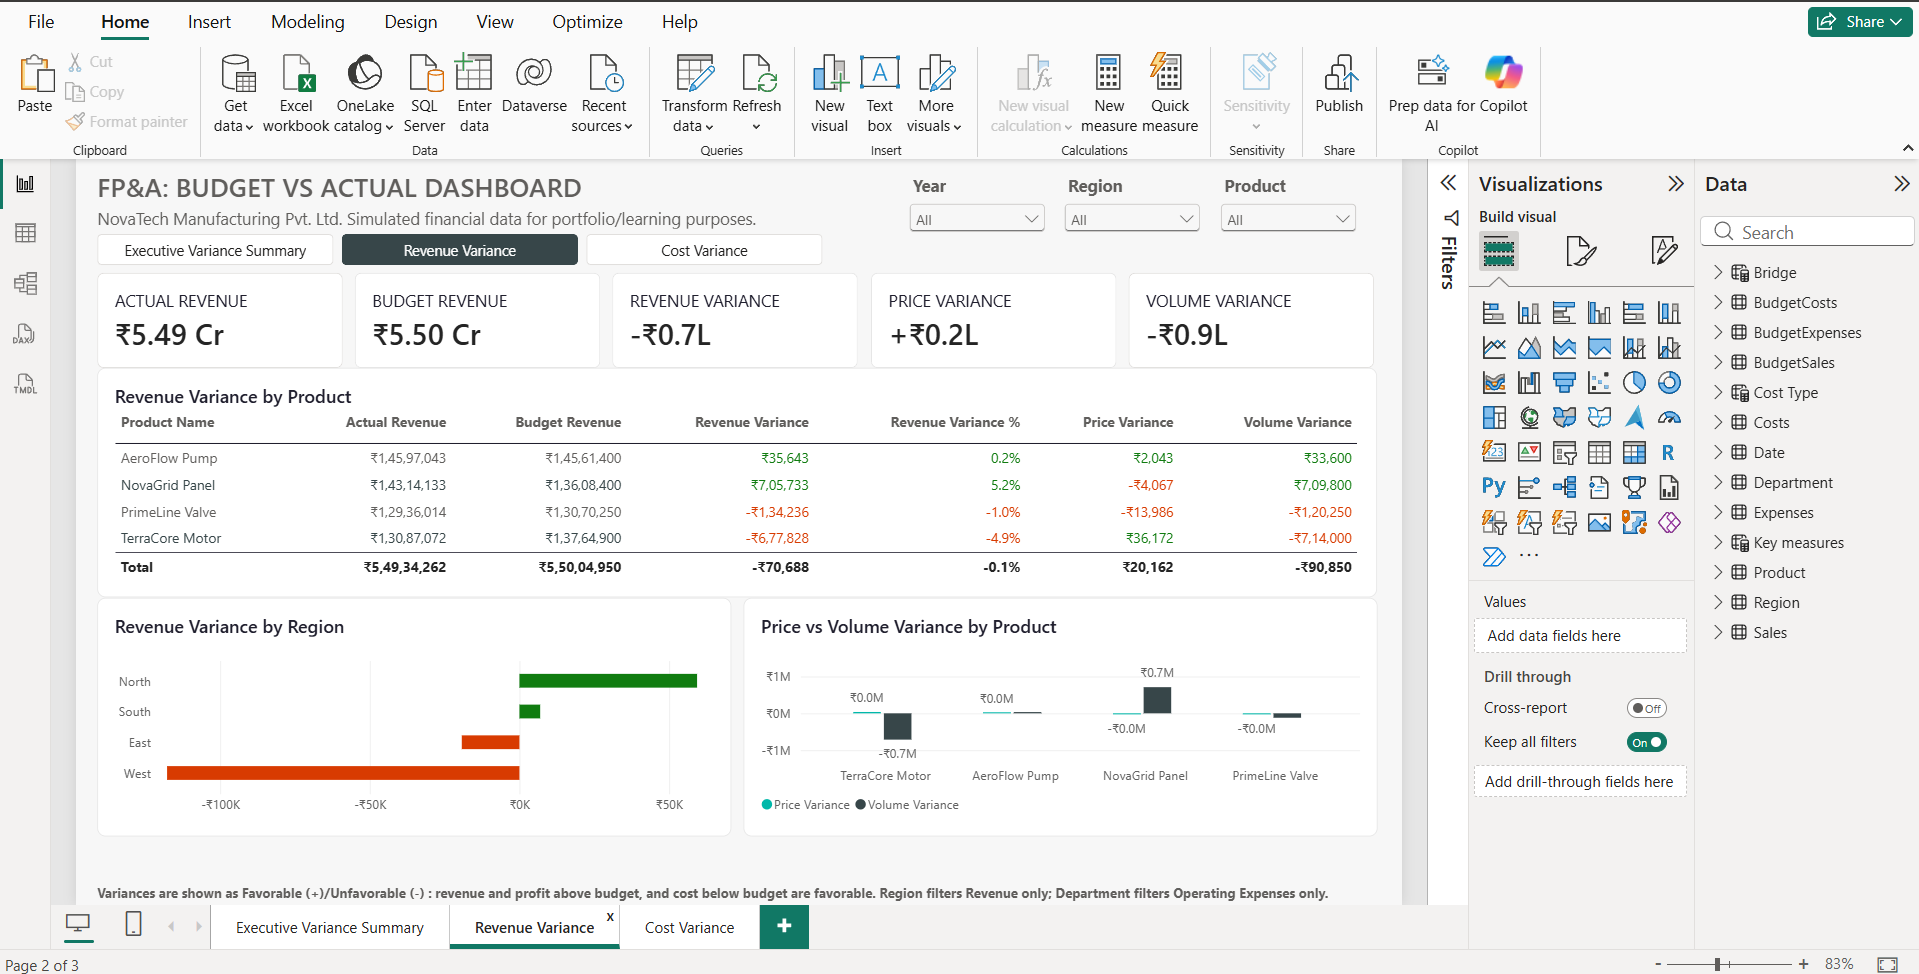

What the dashboard file says about the page in this screenshot:
{"tool":"powerbi","page":{"name":"Revenue Variance","canvas":[1280,720],"ordinal":1},"visuals":[{"type":"textbox","title":"FP&A: BUDGET VS ACTUAL DASHBOARD","box":[20,10,760,60],"z":0},{"type":"slicer","fields":{"Values":["Date.Year"]},"box":[800,14,140,58],"z":1},{"type":"slicer","fields":{"Values":["Sales.Region"]},"box":[950,14,140,58],"z":2},{"type":"slicer","fields":{"Values":["Product.Product Name"]},"box":[1100,14,140,58],"z":3},{"type":"pageNavigator","box":[20,72,700,30],"z":4},{"type":"textbox","title":"Variances are shown as Favorable (+)/Unfavorable (-) : revenue and profit above budget, and cost below budget are favorable. Region filters Revenue only; Department filters Operating Expenses only.","box":[20,700,1236,18],"z":5},{"type":"cardVisual","fields":{"Data":["Key measures.Actual Revenue Label"]},"box":[20,110,237,92],"z":6},{"type":"cardVisual","fields":{"Data":["Key measures.Proce Variance Label"]},"box":[767,110,237,92],"z":7},{"type":"cardVisual","fields":{"Data":["Key measures.Volume Variance Label"]},"box":[1016,110,237,92],"z":8},{"type":"cardVisual","fields":{"Data":["Key measures.Budget Revenue Label"]},"box":[269,110,237,92],"z":9},{"type":"cardVisual","fields":{"Data":["Key measures.Revenue Variance Label"]},"box":[518,110,237,92],"z":10},{"type":"tableEx","title":"Revenue Variance by Product","fields":{"Values":["Product.Product Name","Key measures.Actual Revenue","Key measures.Budget Revenue","Key measures.Revenue Variance","Key measures.Revenue Variance %","Key measures.Price Variance","Key measures.Volume Variance"]},"box":[20.5,201.5,1235.4,222],"z":11},{"type":"clusteredBarChart","fields":{"Category":["Region.Region"],"Y":["Key measures.Revenue Variance"]},"box":[20,424,612,230],"z":12},{"type":"clusteredColumnChart","title":"Price vs Volume Variance by Product","fields":{"Category":["Product.Product Name"],"Y":["Key measures.Price Variance","Key measures.Volume Variance"]},"box":[644,424,612,230],"z":13}]}

Visuals, with their boxes on the page's 1280x720 design canvas (x1, y1, x2, y2). These are canvas units, not pixel positions in the 1919x974 screenshot, which may show the page scaled, cropped or inside an application window:
"FP&A: BUDGET VS ACTUAL DASHBOARD" textbox: bbox(20, 10, 780, 70)
slicer - Date.Year: bbox(800, 14, 940, 72)
slicer - Sales.Region: bbox(950, 14, 1090, 72)
slicer - Product.Product Name: bbox(1100, 14, 1240, 72)
pageNavigator: bbox(20, 72, 720, 102)
"Variances are shown as Favorable (+)/Unfavorable (-) : revenue and profit above budget, and cost below budget are favorable. Region filters Revenue only; Department filters Operating Expenses only." textbox: bbox(20, 700, 1256, 718)
cardVisual - Key measures.Actual Revenue Label: bbox(20, 110, 257, 202)
cardVisual - Key measures.Proce Variance Label: bbox(767, 110, 1004, 202)
cardVisual - Key measures.Volume Variance Label: bbox(1016, 110, 1253, 202)
cardVisual - Key measures.Budget Revenue Label: bbox(269, 110, 506, 202)
cardVisual - Key measures.Revenue Variance Label: bbox(518, 110, 755, 202)
"Revenue Variance by Product" tableEx: bbox(20, 202, 1256, 424)
clusteredBarChart - Region.Region x Key measures.Revenue Variance: bbox(20, 424, 632, 654)
"Price vs Volume Variance by Product" clusteredColumnChart: bbox(644, 424, 1256, 654)
